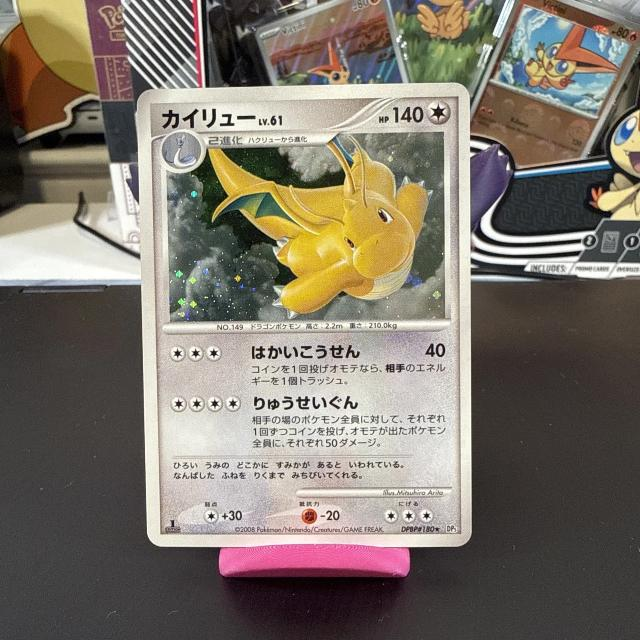Card: (133, 77, 476, 552)
Name: (160, 100, 258, 134)
